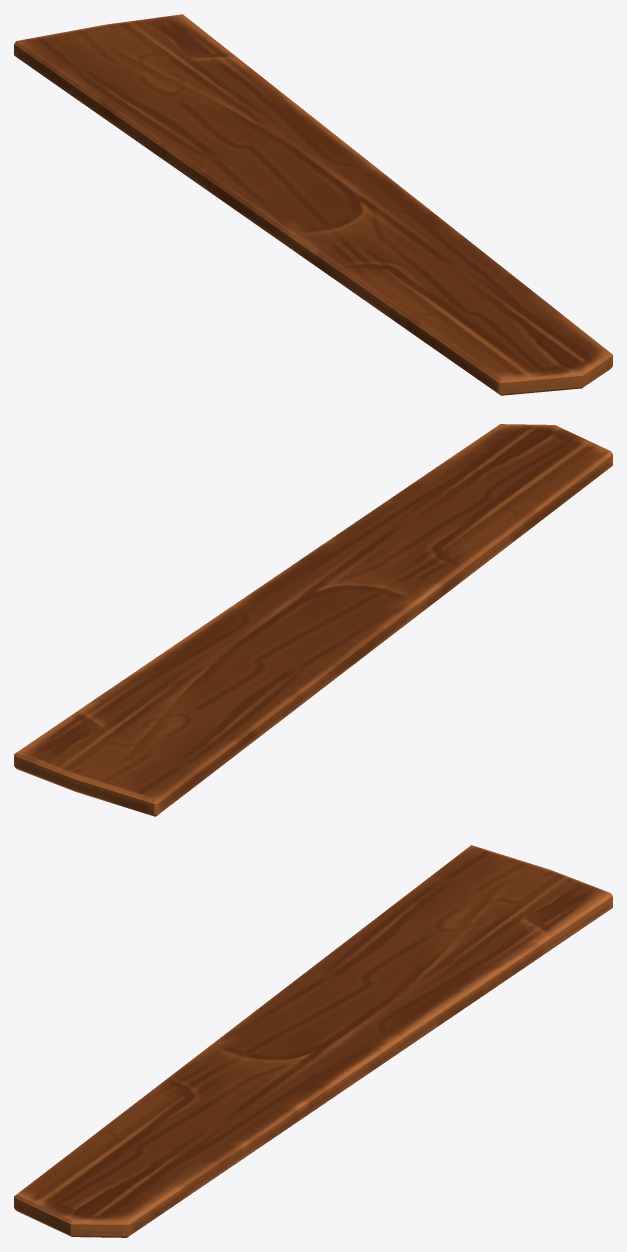
File: Tabla3.fbx
The picture shows the model from 3 angles, top to bottom: view 1: azimuth 30°, elevation 25°; view 2: azimuth 150°, elevation 25°; view 3: azimuth 330°, elevation 25°; orthographic projection.
Visible parts, largest first — view 1: 3_Tabla_Original; view 2: 3_Tabla_Original; view 3: 3_Tabla_Original.
Boxes of the visible parts, box(x1,y1,x2,y2) form: 3_Tabla_Original: box(14, 14, 612, 395); 3_Tabla_Original: box(14, 424, 612, 816); 3_Tabla_Original: box(14, 845, 612, 1237).
Size of the model in its own units: 40.28 by 4 by 215.
